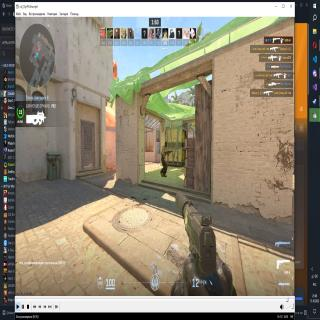T-Body: (161, 140, 170, 178)
T-Head: (164, 141, 168, 149)
